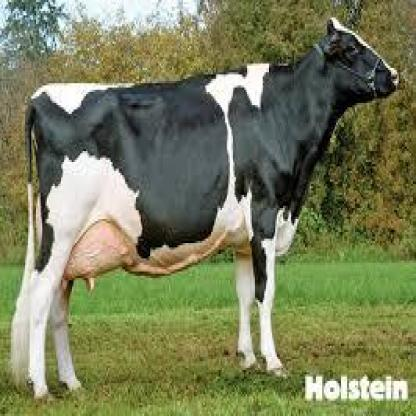cow: (12, 16, 400, 404)
